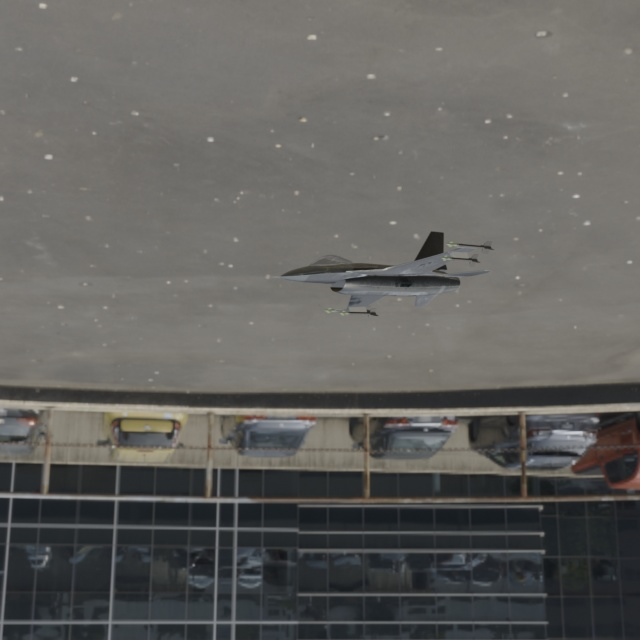model: (199, 173, 526, 327)
